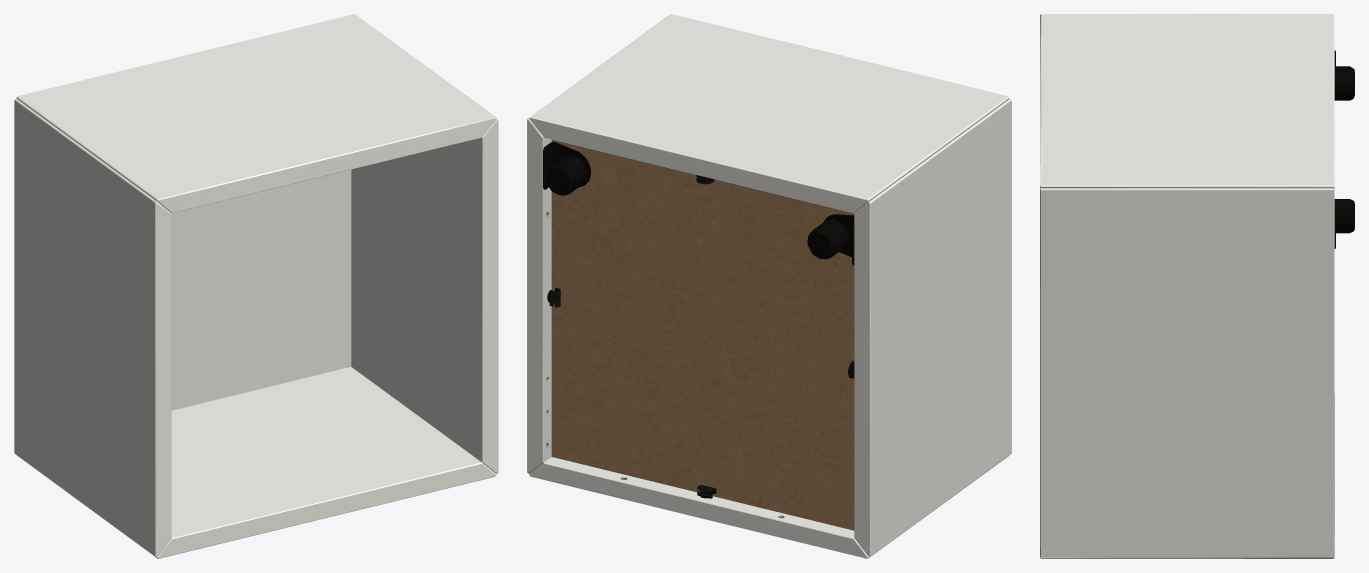
The model's file is eket_szafka_70332124.glb.
3 renders of one model, left to right at view 1: azimuth 30°, elevation 25°; view 2: azimuth 150°, elevation 25°; view 3: azimuth 270°, elevation 25°, orthographic. The views are drawn at different scales.
Parts seen in each view (by area): view 1: eket_szafka_70332124; view 2: eket_szafka_70332124; view 3: eket_szafka_70332124.
Boxes of the visible parts, x1,y1,x2,y2 form: eket_szafka_70332124: [14, 14, 498, 558]; eket_szafka_70332124: [527, 14, 1011, 558]; eket_szafka_70332124: [1040, 14, 1354, 558].
Size of the model in its own units: 0.35 by 0.35 by 0.267.
1 material, 1 textured.
